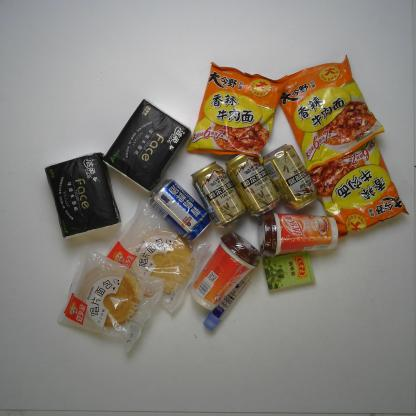Alcohol: (149, 178, 211, 242), (262, 143, 318, 212), (191, 161, 247, 229), (225, 153, 280, 218)
Candy: (262, 252, 315, 292)
Dessert: (100, 200, 213, 315), (57, 247, 164, 353)
Instant Drink: (188, 230, 260, 311), (258, 212, 338, 258)
Instant Noodles: (269, 56, 385, 166), (307, 128, 409, 239), (187, 62, 288, 165)
Stationery: (204, 270, 254, 332)
Tissue: (103, 99, 191, 193), (44, 152, 122, 238)
